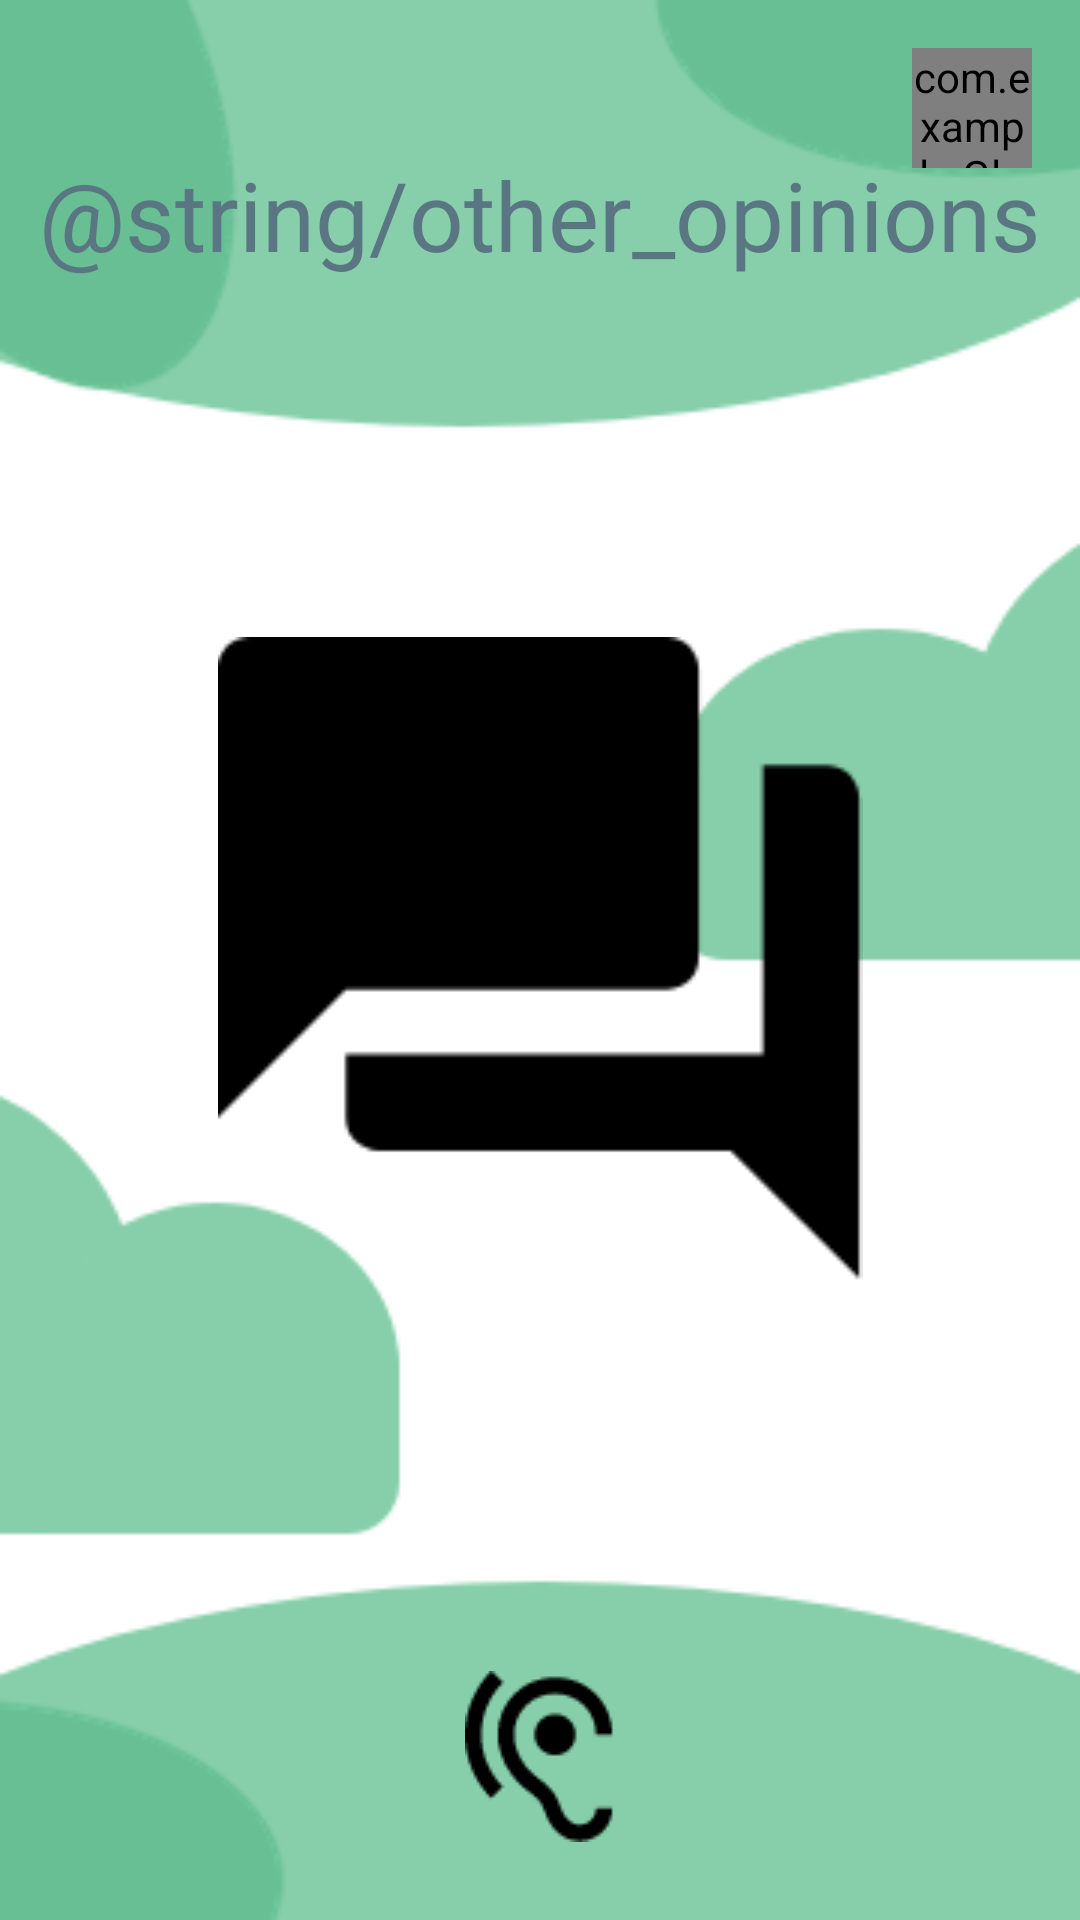

Screen size 1080w x 1920h. Icon name, then its center in pixels as (x=x, y=y):
pictogram oortje: (x=539, y=1756)
